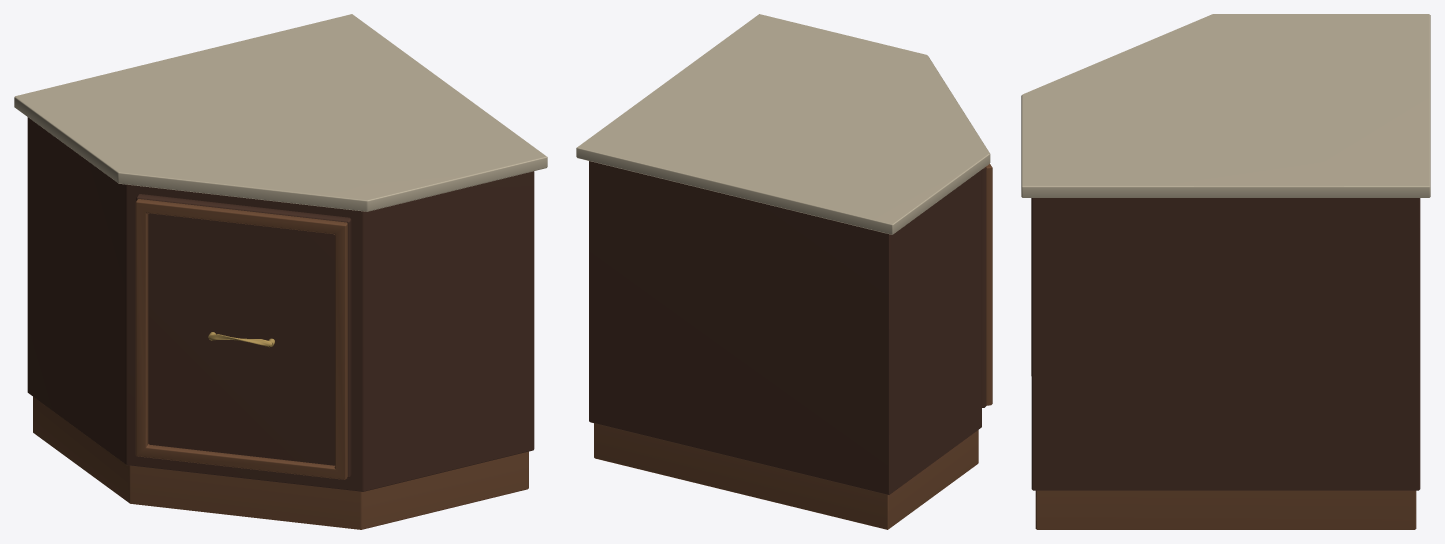
Rendered from rpg-mansion-kitchen-diagonal-corner-900-01.glb.
3 renders of one model, left to right at view 1: azimuth 30°, elevation 25°; view 2: azimuth 150°, elevation 25°; view 3: azimuth 270°, elevation 25°, orthographic. The views are drawn at different scales.
Visible parts, largest first — view 1: rpg-mansion-kitchen-diagonal-corner-900-01; view 2: rpg-mansion-kitchen-diagonal-corner-900-01; view 3: rpg-mansion-kitchen-diagonal-corner-900-01.
Part boxes in pixels (bbox=[...]): rpg-mansion-kitchen-diagonal-corner-900-01: bbox=[14, 14, 547, 529]; rpg-mansion-kitchen-diagonal-corner-900-01: bbox=[576, 14, 992, 529]; rpg-mansion-kitchen-diagonal-corner-900-01: bbox=[1021, 14, 1430, 529].
Size of the model in its own units: 0.9 by 0.85 by 0.9.
